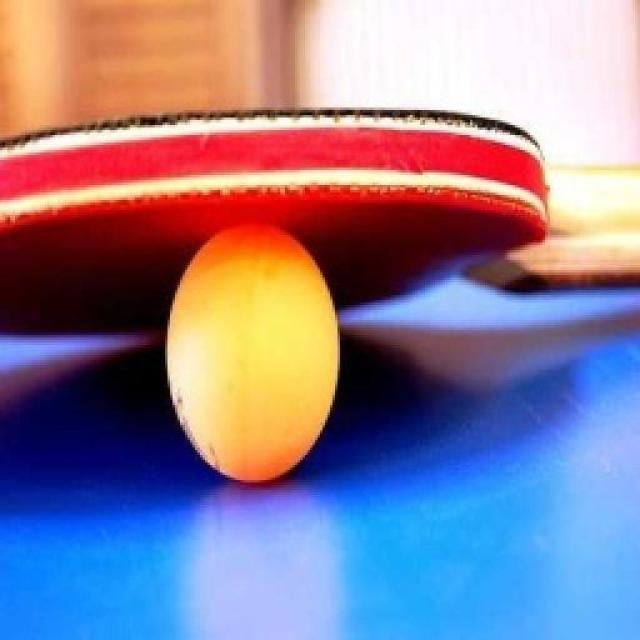oball: (162, 222, 342, 488)
